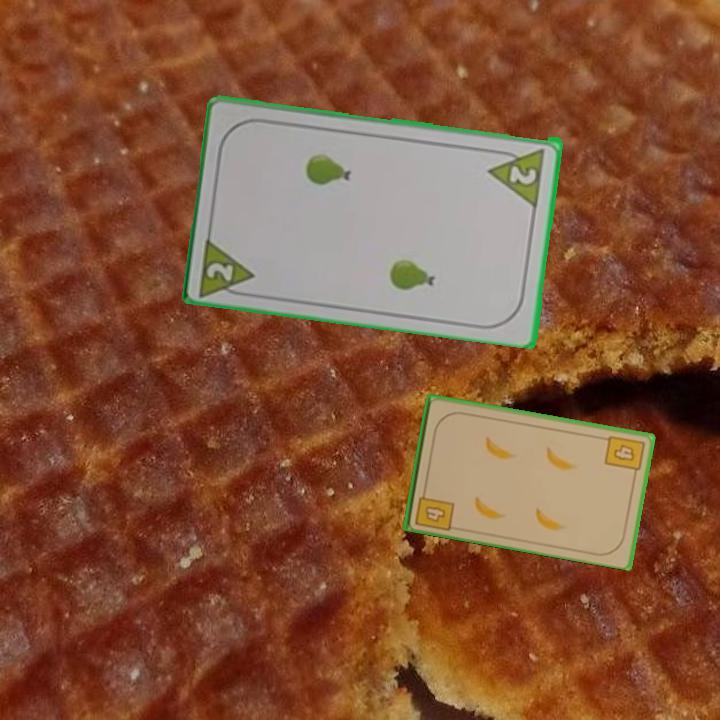2p: (195, 231, 259, 300), (486, 144, 548, 207)
4b: (411, 484, 457, 533), (601, 432, 647, 479)
